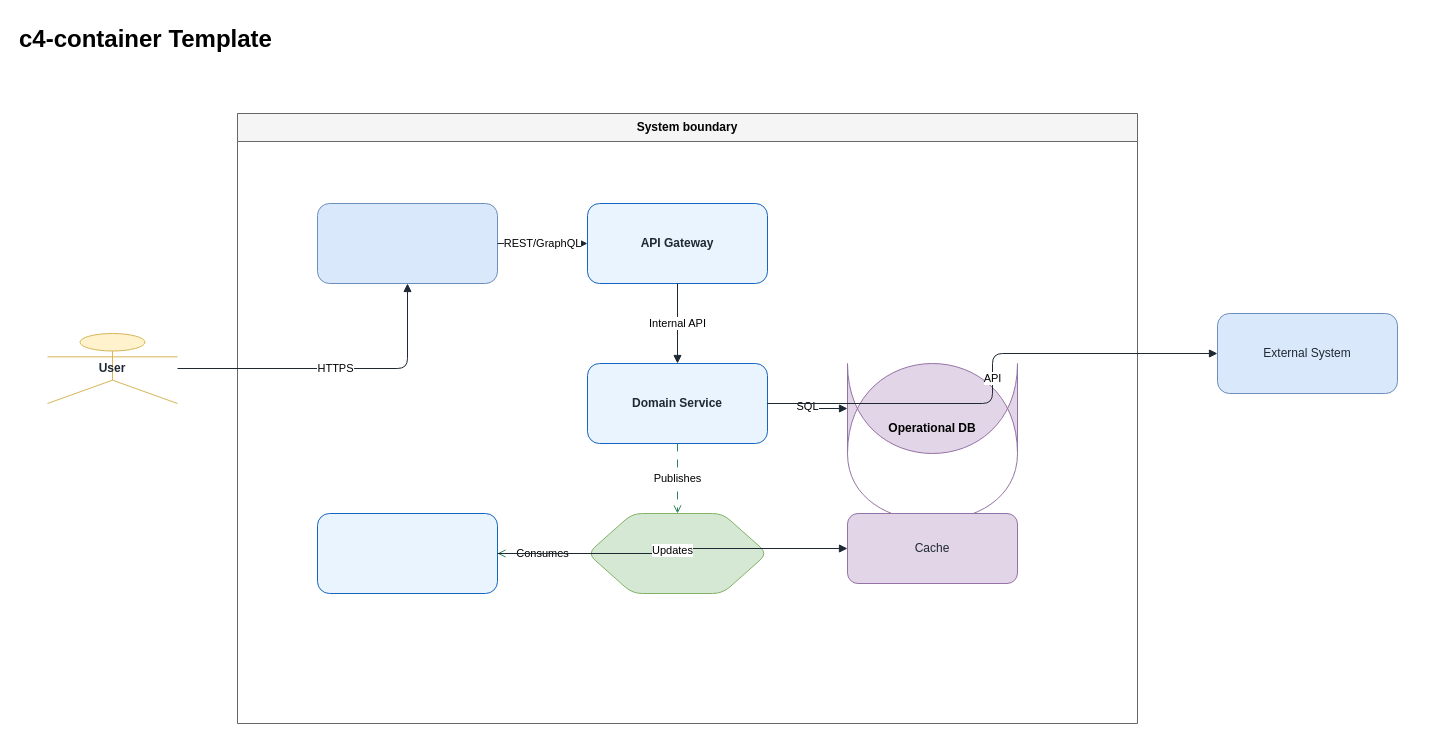
Some shapes in this 1454 by 741 pixel diagram are drawn without their labels. Here are the shapes that lost their labels. From the top down, the centre of each, then its label:
At point 407,243: "Web / Mobile UI".
At point 407,553: "Async Worker".
At point 677,553: "Queue / Event Bus".
